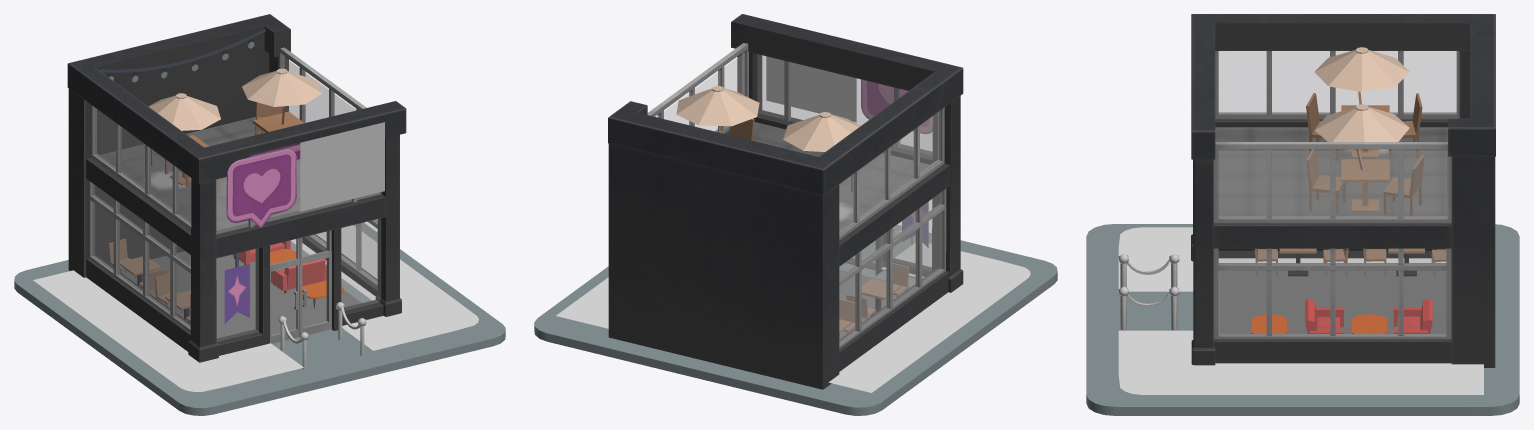
File: FanMeetup.fbx
3 views of the same model, side by side, from view 1: azimuth 30°, elevation 25°; view 2: azimuth 150°, elevation 25°; view 3: azimuth 270°, elevation 25° (orthographic). The views are drawn at different scales.
Visible parts, largest first — view 1: FanMeetup; view 2: FanMeetup; view 3: FanMeetup.
Boxes of the visible parts, box(x1,y1,x2,y2) form: FanMeetup: box(14, 14, 505, 415); FanMeetup: box(534, 14, 1057, 415); FanMeetup: box(1086, 14, 1519, 415).
Size of the model in its own units: 3.99 by 2.54 by 3.99.
